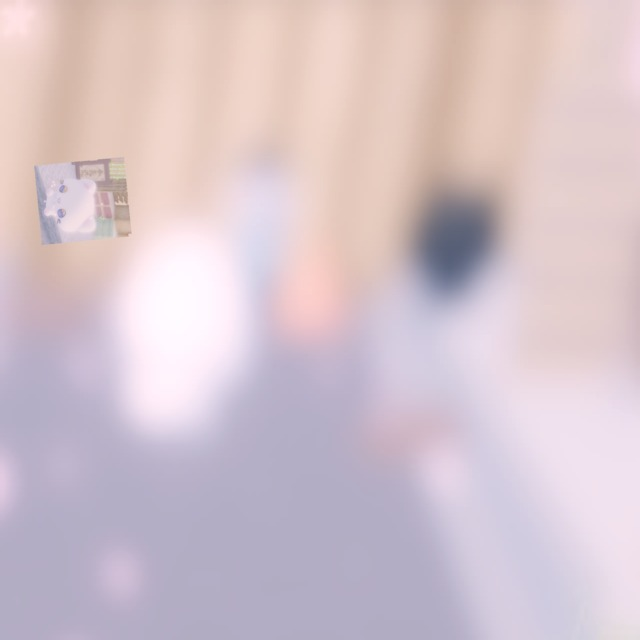urso_branco: (34, 157, 132, 245)
